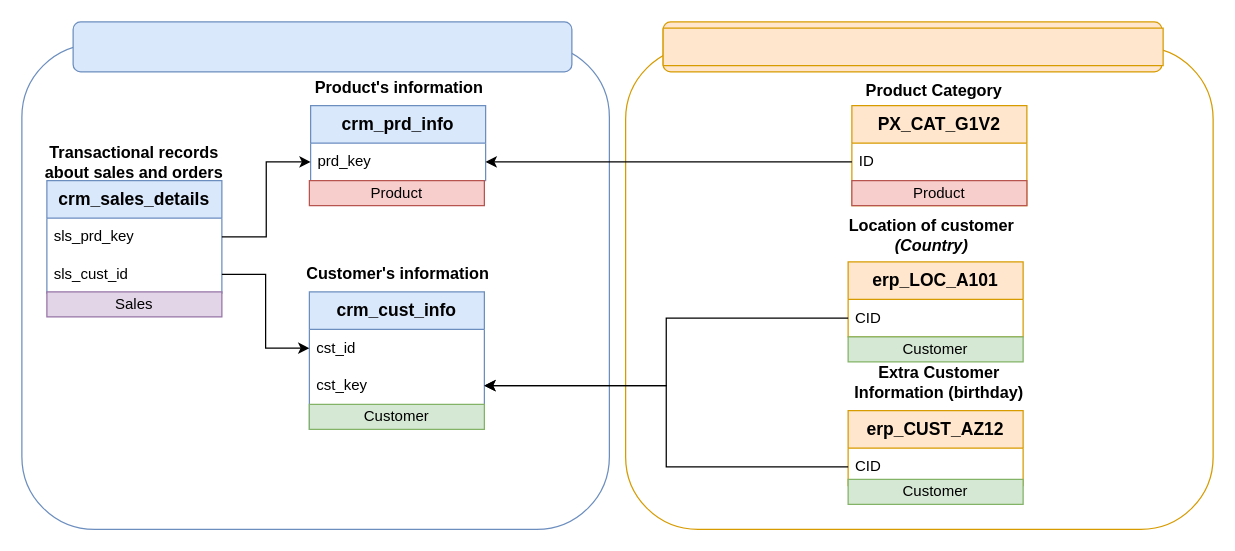
The diagram is 1235 pixels wide and 551 high, and some of its shapes have lost their labels. Each missing label, with the centre of its shape:
Source: CRM: the point at 322,46
Source: ERP: the point at 912,46
